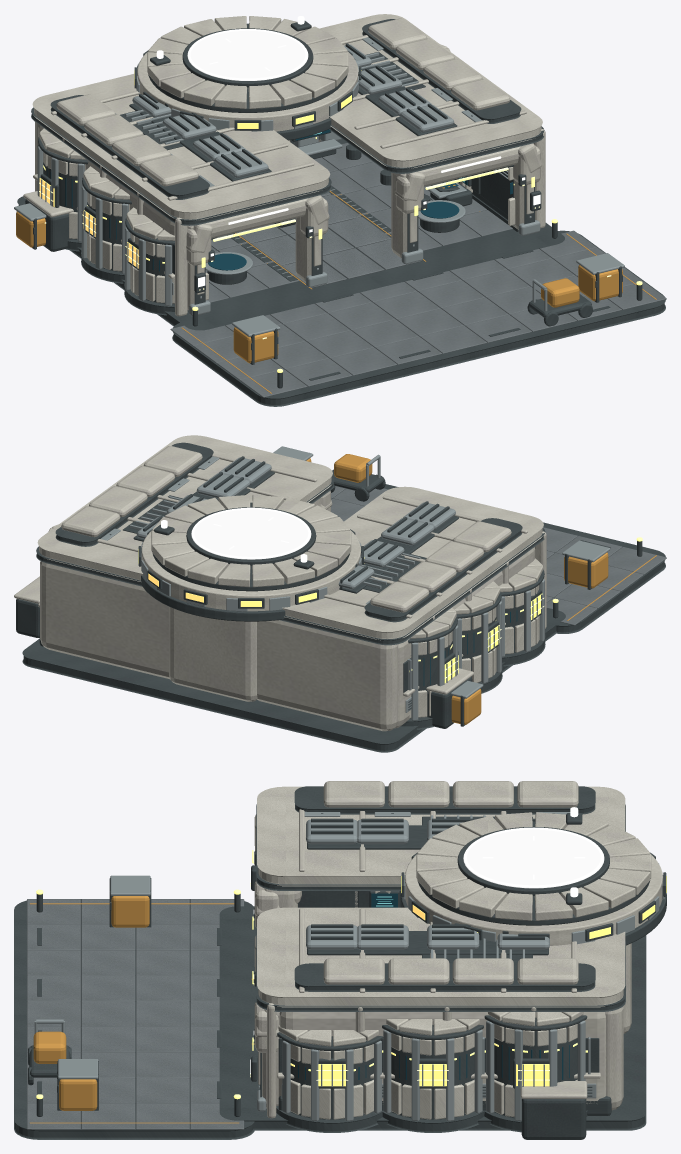
Rendered from base-command.glb.
3 renders of one model, top to bottom at view 1: azimuth 30°, elevation 25°; view 2: azimuth 150°, elevation 25°; view 3: azimuth 270°, elevation 25°, orthographic. The views are drawn at different scales.
Visible parts, largest first — view 1: MF_Roof__structure_ivory_ceramic, MF_Court__court_weathered_basalt, MF_Roof__structure_graphite_joints, MF_ShellCutaway__structure_ivory_ceramic, MF_Interior__court_weathered_basalt, MF_BaseFixed__structure_graphite_joints, MF_Court__structure_graphite_joints, MF_Roof__brushed_titanium, MF_ShellCutaway__structure_graphite_joints, MF_ShellCutaway__brushed_titanium, MF_Roof__identity_roof_inset, MF_Props__utility_ochre (+9 smaller); view 2: MF_Roof__structure_ivory_ceramic, MF_BaseFixed__structure_ivory_ceramic, MF_Roof__structure_graphite_joints, MF_BaseFixed__structure_graphite_joints, MF_Roof__brushed_titanium, MF_Court__court_weathered_basalt, MF_Roof__identity_roof_inset, MF_ShellCutaway__brushed_titanium, MF_ShellCutaway__structure_ivory_ceramic, MF_Props__structure_graphite_joints, MF_Props__utility_ochre, MF_ShellCutaway__structure_graphite_joints (+6 smaller); view 3: MF_Roof__structure_ivory_ceramic, MF_Court__court_weathered_basalt, MF_Roof__structure_graphite_joints, MF_BaseFixed__structure_graphite_joints, MF_ShellCutaway__structure_ivory_ceramic, MF_ShellCutaway__brushed_titanium, MF_ShellCutaway__structure_graphite_joints, MF_Roof__brushed_titanium, MF_Court__structure_graphite_joints, MF_Roof__identity_roof_inset, MF_Props__structure_graphite_joints, MF_Props__utility_ochre (+7 smaller).
Boxes of the visible parts, bbox=[...] form: MF_Roof__structure_ivory_ceramic: bbox=[32, 14, 542, 240]; MF_Court__court_weathered_basalt: bbox=[170, 230, 666, 397]; MF_Roof__structure_graphite_joints: bbox=[31, 19, 544, 245]; MF_ShellCutaway__structure_ivory_ceramic: bbox=[43, 129, 545, 310]; MF_Interior__court_weathered_basalt: bbox=[205, 143, 512, 302]; MF_BaseFixed__structure_graphite_joints: bbox=[17, 139, 564, 330]; MF_Court__structure_graphite_joints: bbox=[172, 230, 665, 406]; MF_Roof__brushed_titanium: bbox=[115, 37, 482, 186]; MF_ShellCutaway__structure_graphite_joints: bbox=[40, 162, 541, 304]; MF_ShellCutaway__brushed_titanium: bbox=[37, 146, 540, 316]; MF_Roof__identity_roof_inset: bbox=[187, 30, 308, 80]; MF_Props__utility_ochre: bbox=[16, 211, 622, 363]; MF_Roof__structure_ivory_ceramic: bbox=[37, 435, 543, 640]; MF_BaseFixed__structure_ivory_ceramic: bbox=[40, 531, 546, 731]; MF_Roof__structure_graphite_joints: bbox=[36, 442, 545, 645]; MF_BaseFixed__structure_graphite_joints: bbox=[22, 608, 565, 752]; MF_Roof__brushed_titanium: bbox=[101, 456, 455, 611]; MF_Court__court_weathered_basalt: bbox=[331, 486, 666, 625]; MF_Roof__identity_roof_inset: bbox=[191, 509, 311, 559]; MF_ShellCutaway__brushed_titanium: bbox=[411, 579, 544, 720]; MF_ShellCutaway__structure_ivory_ceramic: bbox=[38, 490, 539, 718]; MF_Props__structure_graphite_joints: bbox=[16, 469, 642, 728]; MF_Props__utility_ochre: bbox=[306, 454, 608, 724]; MF_ShellCutaway__structure_graphite_joints: bbox=[410, 589, 541, 719]; MF_Roof__structure_ivory_ceramic: bbox=[257, 781, 662, 1046]; MF_Court__court_weathered_basalt: bbox=[27, 899, 244, 1129]; MF_Roof__structure_graphite_joints: bbox=[256, 786, 666, 1050]; MF_BaseFixed__structure_graphite_joints: bbox=[219, 906, 646, 1132]; MF_ShellCutaway__structure_ivory_ceramic: bbox=[254, 814, 605, 1119]; MF_ShellCutaway__brushed_titanium: bbox=[257, 1020, 596, 1121]; MF_ShellCutaway__structure_graphite_joints: bbox=[251, 850, 599, 1120]; MF_Roof__brushed_titanium: bbox=[304, 811, 664, 959]; MF_Court__structure_graphite_joints: bbox=[14, 899, 254, 1139]; MF_Roof__identity_roof_inset: bbox=[463, 829, 604, 888]; MF_Props__structure_graphite_joints: bbox=[28, 878, 586, 1139]; MF_Props__utility_ochre: bbox=[33, 896, 149, 1110].
Bounding box in the file's own units: 29.57 × 9.62 × 32.38.
15 materials, 3 textured.
